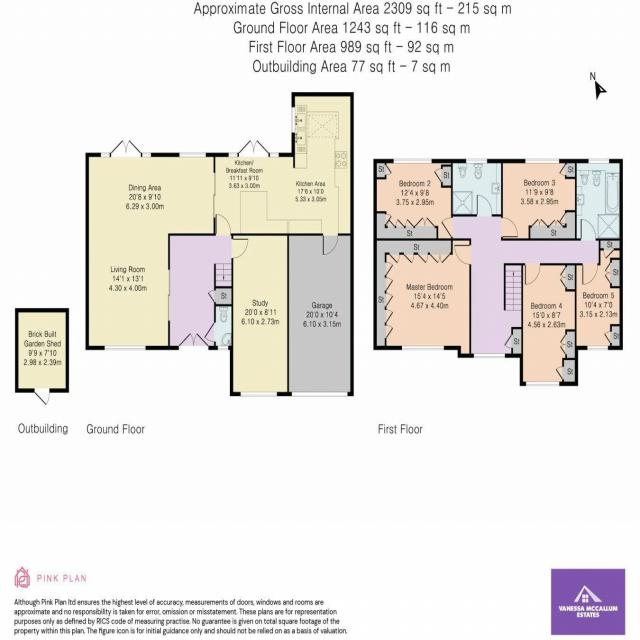DOOR: (231, 237, 249, 260), (525, 262, 541, 285), (476, 194, 492, 217), (580, 218, 596, 241), (215, 213, 231, 236), (454, 244, 471, 265), (501, 217, 518, 238), (582, 263, 598, 285), (440, 217, 453, 238), (204, 322, 216, 343)
DOUBLE DOOR: (109, 136, 143, 157), (177, 330, 211, 351), (238, 137, 270, 158)
ROOM: (85, 138, 217, 351), (213, 92, 354, 257), (373, 238, 471, 358), (230, 233, 290, 397), (519, 263, 578, 386), (373, 159, 453, 241), (501, 158, 577, 241), (575, 238, 623, 350)
WINDOW: (103, 344, 147, 351), (393, 158, 432, 164), (240, 391, 277, 397), (401, 345, 444, 350), (525, 381, 560, 387), (525, 158, 560, 164), (473, 353, 505, 359), (587, 345, 609, 351), (466, 158, 488, 164), (588, 158, 610, 164), (291, 107, 295, 133), (228, 152, 238, 158), (269, 152, 279, 158), (217, 346, 229, 351)
